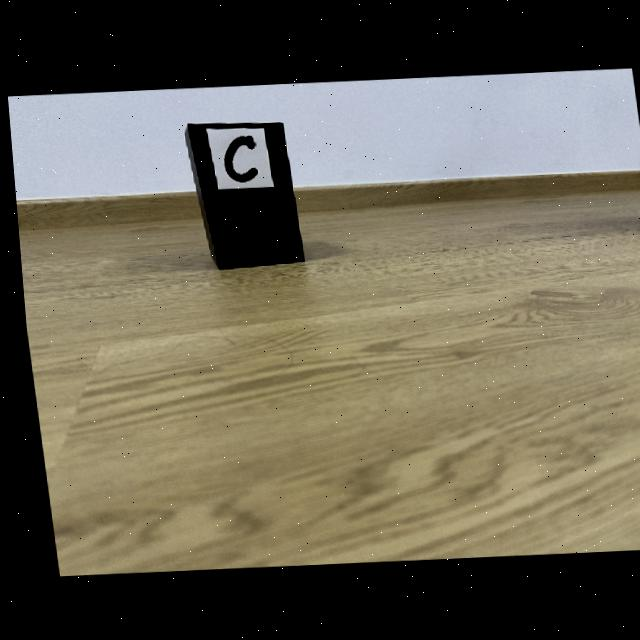C: (222, 134, 256, 182)
